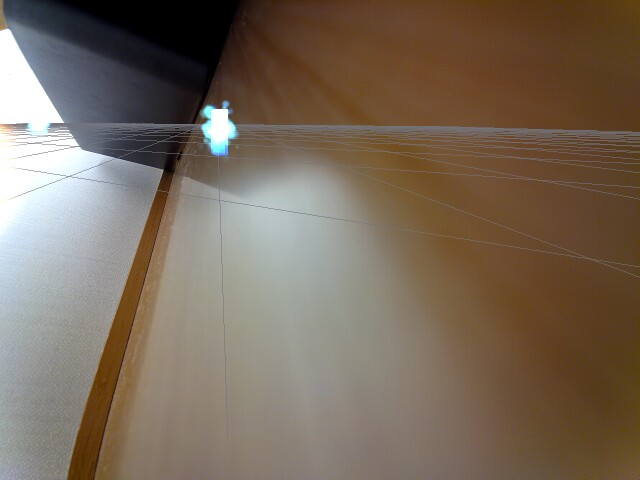firebig: (1, 114, 46, 265)
